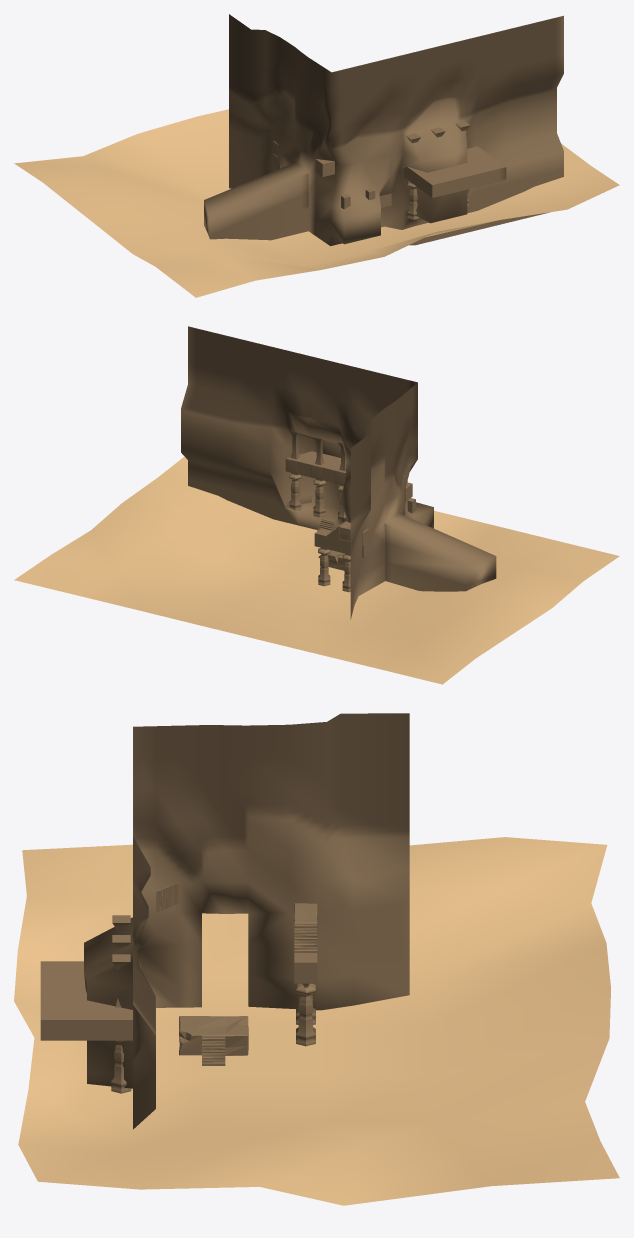
File: level01_background.fbx
The picture shows the model from 3 angles, top to bottom: view 1: azimuth 30°, elevation 25°; view 2: azimuth 150°, elevation 25°; view 3: azimuth 270°, elevation 25°; orthographic projection. The views are drawn at different scales.
Parts seen in each view (by area): view 1: india_column12; view 2: india_column12; view 3: india_column12.
Part boxes in pixels (x1,y1,x2,y2): india_column12: [14, 14, 619, 297]; india_column12: [14, 326, 619, 684]; india_column12: [14, 713, 619, 1205].
Size of the model in its own units: 35.59 by 15 by 26.29.
Materials: 1 (1 with a texture image).
